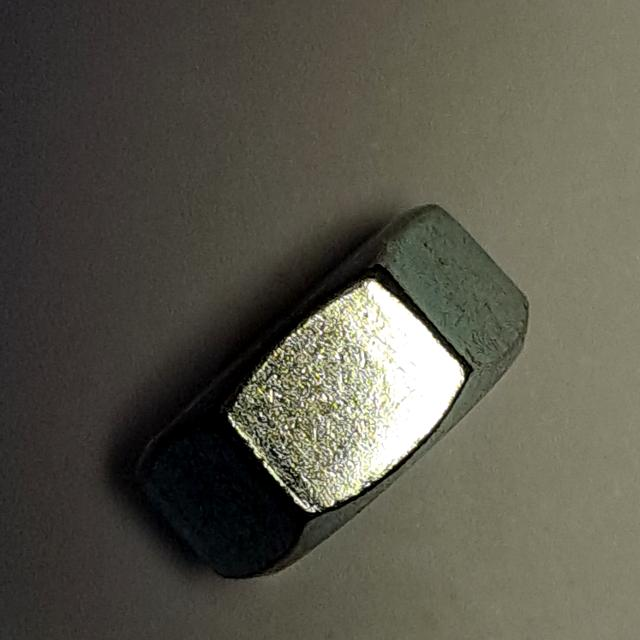Side_Excellent: (122, 190, 538, 593)
